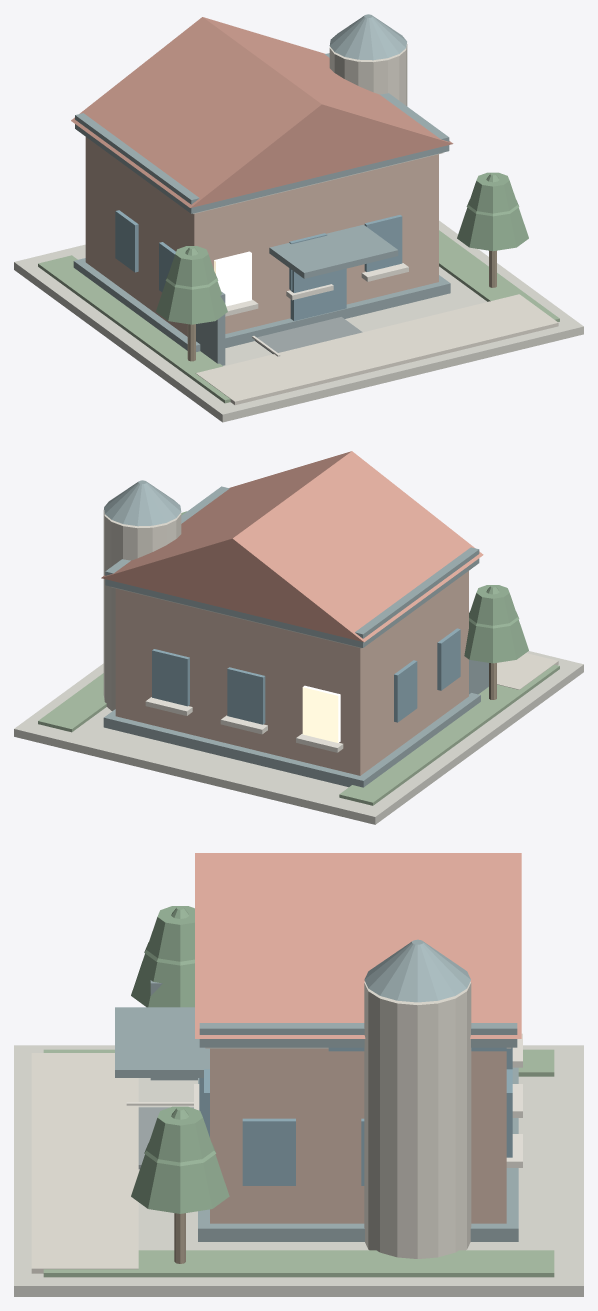
File: remaster_industry_mill_1.glb
3 renders of one model, top to bottom at view 1: azimuth 30°, elevation 25°; view 2: azimuth 150°, elevation 25°; view 3: azimuth 270°, elevation 25°, orthographic. The views are drawn at different scales.
Visible parts, largest first — view 1: remaster_industry_mill_1 red, remaster_industry_mill_1 brick, remaster_industry_mill_1 roof, remaster_industry_mill_1 cream, remaster_industry_mill_1 stone, remaster_industry_mill_1 leaf, remaster_industry_mill_1 green, remaster_industry_mill_1 glass, remaster_industry_mill_1 asphalt, remaster_industry_mill_1 warm, remaster_industry_mill_1 white, remaster_industry_mill_1 bark; view 2: remaster_industry_mill_1 red, remaster_industry_mill_1 brick, remaster_industry_mill_1 stone, remaster_industry_mill_1 roof, remaster_industry_mill_1 green, remaster_industry_mill_1 glass, remaster_industry_mill_1 cream, remaster_industry_mill_1 leaf, remaster_industry_mill_1 warm, remaster_industry_mill_1 white; view 3: remaster_industry_mill_1 cream, remaster_industry_mill_1 red, remaster_industry_mill_1 stone, remaster_industry_mill_1 brick, remaster_industry_mill_1 roof, remaster_industry_mill_1 green, remaster_industry_mill_1 leaf, remaster_industry_mill_1 glass, remaster_industry_mill_1 white, remaster_industry_mill_1 asphalt, remaster_industry_mill_1 bark.
Boxes of the visible parts, left/top/right/bottom form: remaster_industry_mill_1 red: left=71, top=17, right=453, bottom=207; remaster_industry_mill_1 brick: left=85, top=137, right=438, bottom=336; remaster_industry_mill_1 roof: left=73, top=14, right=450, bottom=365; remaster_industry_mill_1 cream: left=195, top=44, right=558, bottom=405; remaster_industry_mill_1 stone: left=14, top=152, right=583, bottom=422; remaster_industry_mill_1 leaf: left=156, top=172, right=528, bottom=324; remaster_industry_mill_1 green: left=38, top=230, right=559, bottom=403; remaster_industry_mill_1 glass: left=115, top=210, right=402, bottom=320; remaster_industry_mill_1 asphalt: left=255, top=317, right=362, bottom=354; remaster_industry_mill_1 warm: left=214, top=251, right=251, bottom=306; remaster_industry_mill_1 white: left=225, top=263, right=408, bottom=356; remaster_industry_mill_1 bark: left=187, top=250, right=496, bottom=361; remaster_industry_mill_1 red: left=101, top=451, right=483, bottom=642; remaster_industry_mill_1 brick: left=115, top=571, right=468, bottom=775; remaster_industry_mill_1 stone: left=14, top=587, right=583, bottom=824; remaster_industry_mill_1 roof: left=103, top=480, right=488, bottom=787; remaster_industry_mill_1 green: left=38, top=664, right=559, bottom=805; remaster_industry_mill_1 glass: left=152, top=628, right=460, bottom=724; remaster_industry_mill_1 cream: left=103, top=510, right=558, bottom=710; remaster_industry_mill_1 leaf: left=181, top=511, right=528, bottom=663; remaster_industry_mill_1 warm: left=302, top=685, right=340, bottom=742; remaster_industry_mill_1 white: left=145, top=697, right=343, bottom=752; remaster_industry_mill_1 cream: left=31, top=981, right=471, bottom=1273; remaster_industry_mill_1 red: left=195, top=853, right=521, bottom=1038; remaster_industry_mill_1 stone: left=14, top=1045, right=583, bottom=1296; remaster_industry_mill_1 brick: left=210, top=1048, right=506, bottom=1223; remaster_industry_mill_1 roof: left=115, top=939, right=518, bottom=1241; remaster_industry_mill_1 green: left=43, top=1049, right=554, bottom=1277; remaster_industry_mill_1 leaf: left=131, top=906, right=229, bottom=1213; remaster_industry_mill_1 glass: left=199, top=1047, right=512, bottom=1185; remaster_industry_mill_1 white: left=126, top=1033, right=522, bottom=1167; remaster_industry_mill_1 asphalt: left=138, top=1107, right=193, bottom=1169; remaster_industry_mill_1 bark: left=174, top=1213, right=185, bottom=1263.
Bounding box in the file's own units: 9.64 × 5.82 × 9.6.
